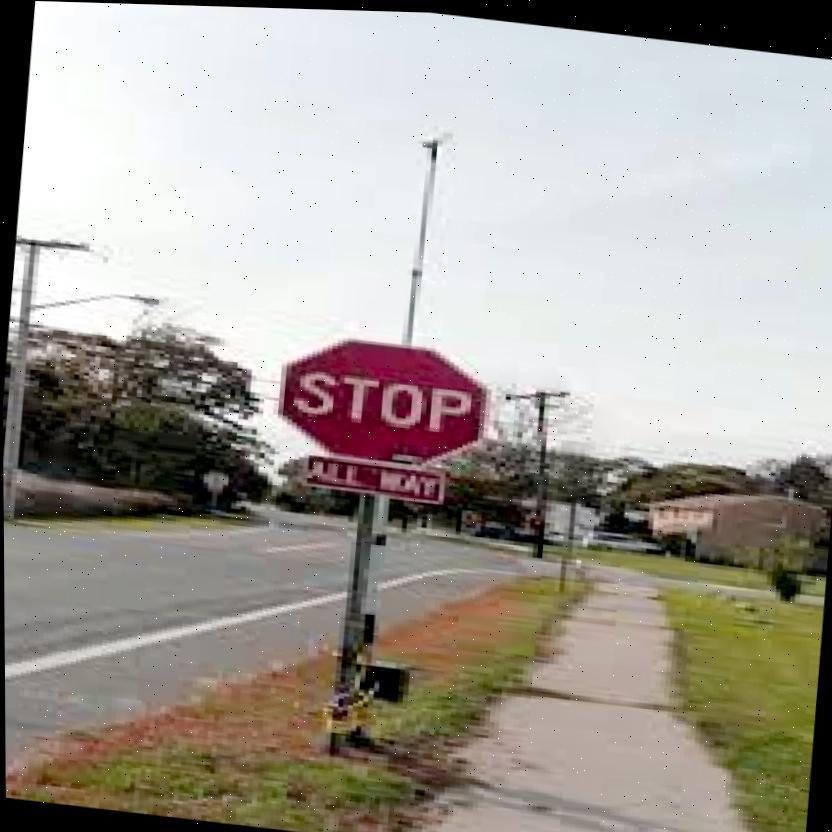Pole: (326, 489, 387, 755)
Sign: (270, 324, 497, 478)
